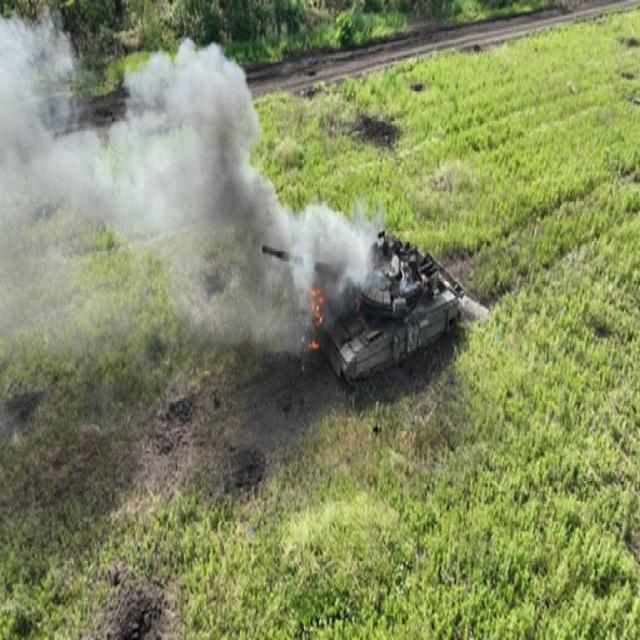TANK: (260, 222, 465, 391)
